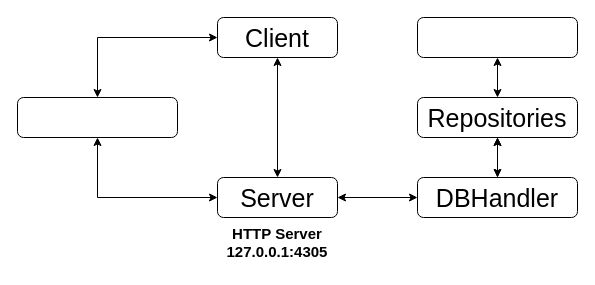
Image size: 595x285. Some labels were removed from this diagram. The box of each missing label's shape, as (x1, y1, x2, y2) in pixels:
ServiceLib: (16, 96, 178, 138)
SQL database: (416, 16, 578, 58)
